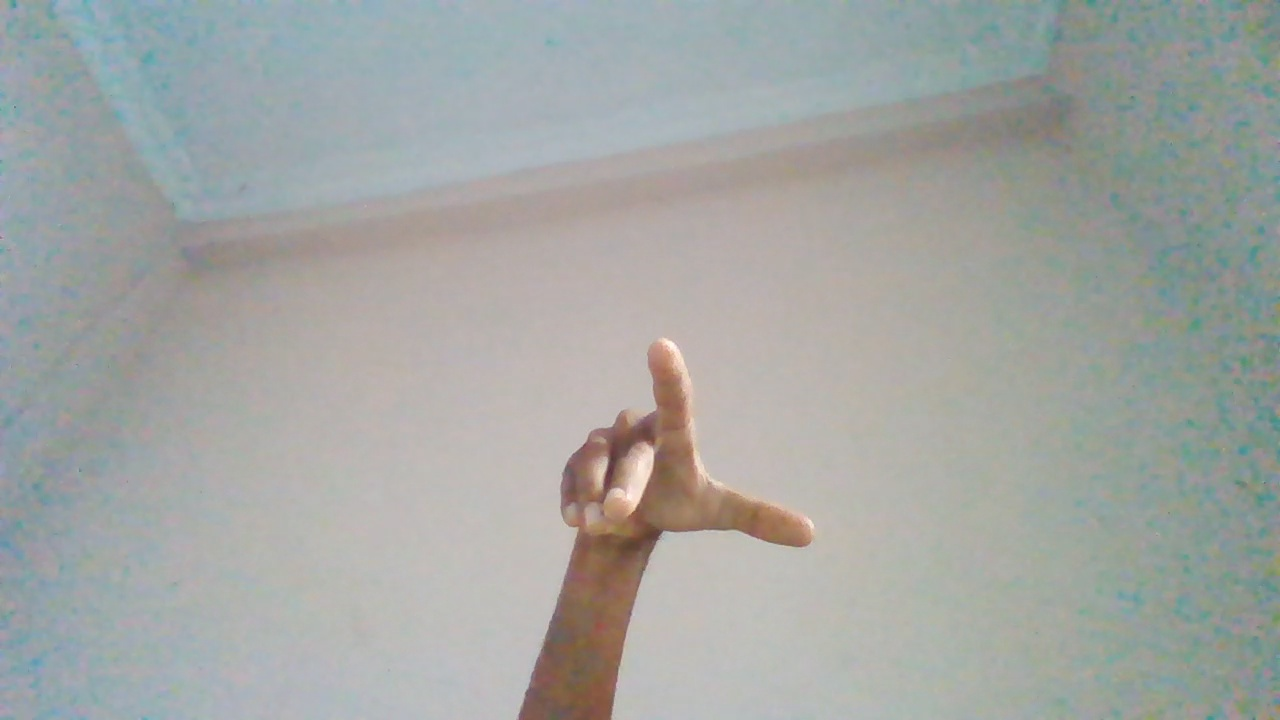ke: (561, 340, 817, 688)
